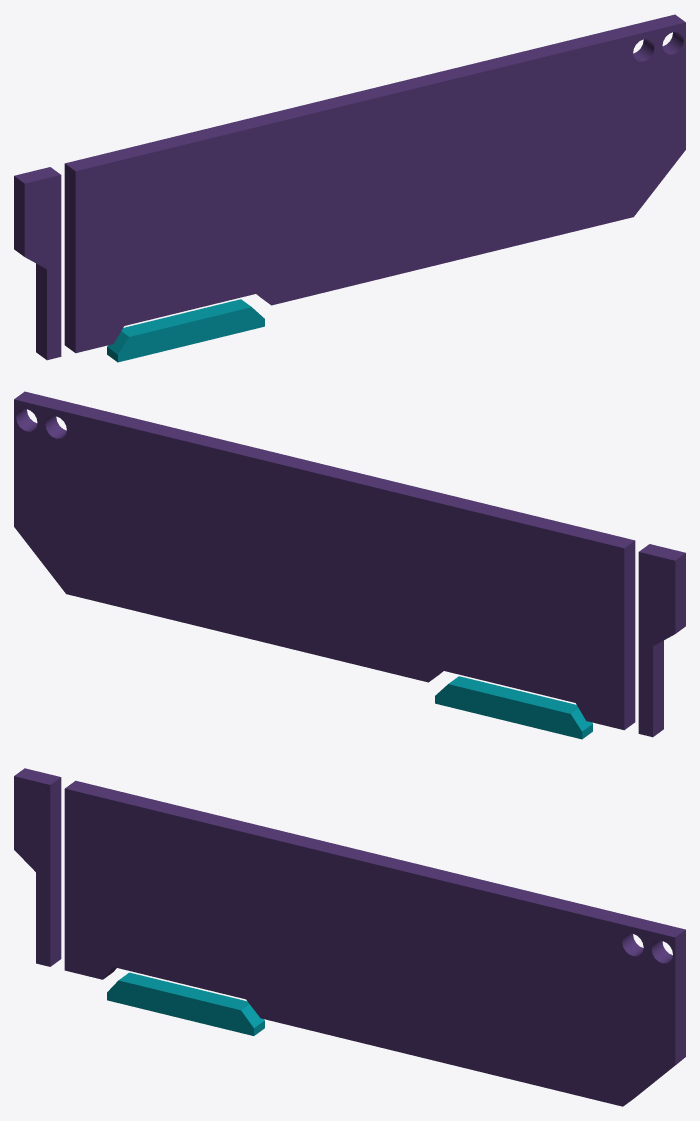
File: Boton-Cuadrado.fbx
3 views of the same model, one above another, from view 1: azimuth 30°, elevation 25°; view 2: azimuth 150°, elevation 25°; view 3: azimuth 330°, elevation 25° (orthographic).
Visible parts, largest first — view 1: svgMesh1; view 2: svgMesh1; view 3: svgMesh1.
Part boxes in pixels (<box>): svgMesh1: <box>14,14,685,362</box>; svgMesh1: <box>14,391,685,739</box>; svgMesh1: <box>14,768,685,1106</box>.
Bounding box in the file's own units: 35.3 × 10.28 × 1.
